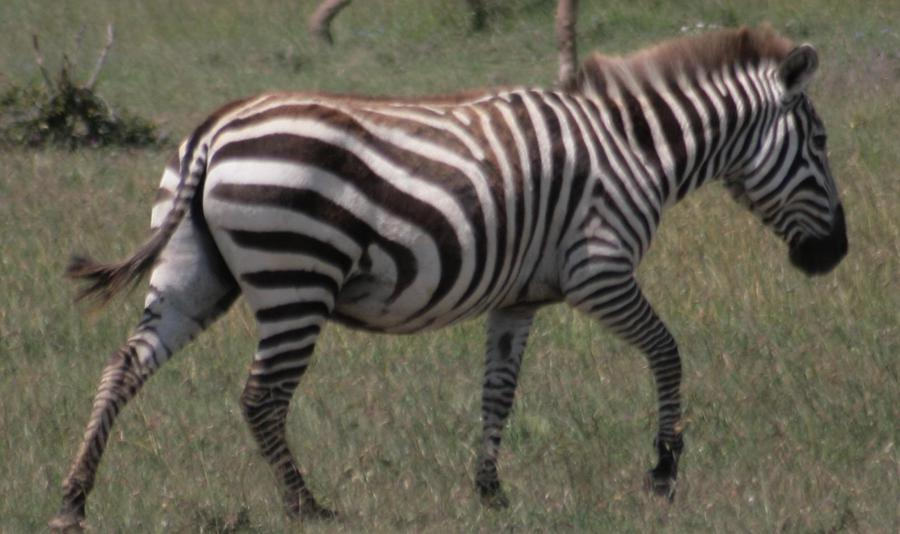zebra_plains: (192, 48, 679, 352)
